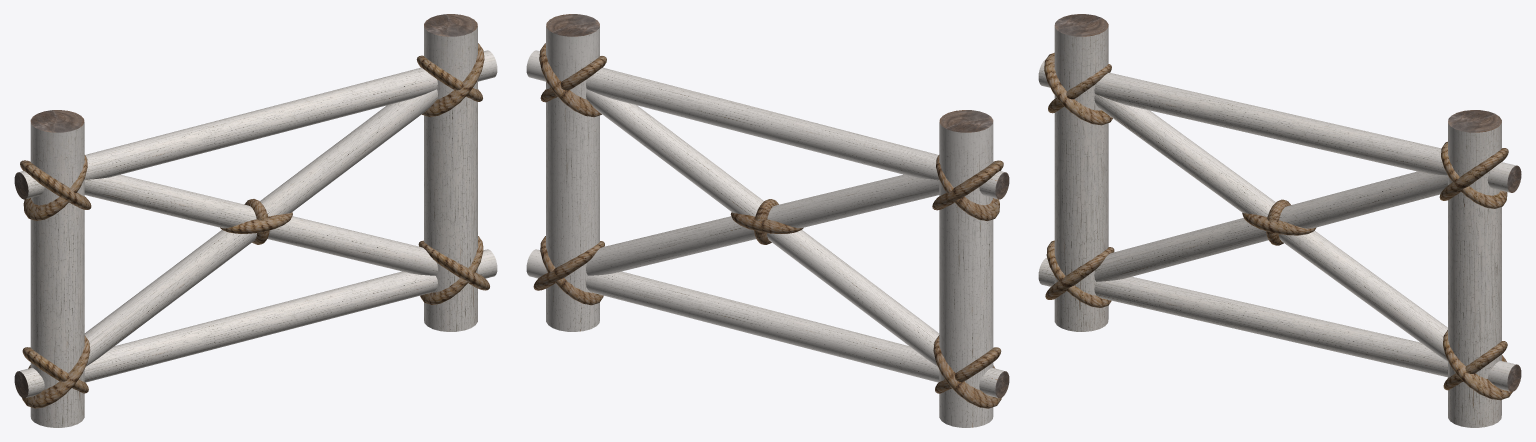
Rendered from Fence.fbx.
3 renders of one model, left to right at view 1: azimuth 30°, elevation 25°; view 2: azimuth 150°, elevation 25°; view 3: azimuth 330°, elevation 25°, orthographic.
Parts seen in each view (by area): view 1: polySurface4, pTorus14, pTorus15, pTorus12, pTorus13, pTorus11; view 2: polySurface4, pTorus14, pTorus15, pTorus12, pTorus13, pTorus11; view 3: polySurface4, pTorus12, pTorus15, pTorus13, pTorus14, pTorus11.
Part boxes in pixels (x1,y1,x2,y2): polySurface4: (14,14,497,427); pTorus14: (22,335,90,408); pTorus15: (20,155,91,220); pTorus12: (416,43,484,116); pTorus13: (418,236,489,304); pTorus11: (220,199,292,244); polySurface4: (526,14,1009,427); pTorus14: (933,335,1001,408); pTorus15: (932,155,1003,221); pTorus12: (539,43,606,117); pTorus13: (533,236,604,305); pTorus11: (730,199,803,244); polySurface4: (1038,14,1521,427); pTorus12: (1439,141,1508,208); pTorus15: (1044,52,1112,125); pTorus13: (1443,330,1512,400); pTorus14: (1045,240,1114,307); pTorus11: (1242,199,1316,245).
Size of the model in its own units: 6 by 3.61 by 0.7954.
Materials: 2 (2 with a texture image).
